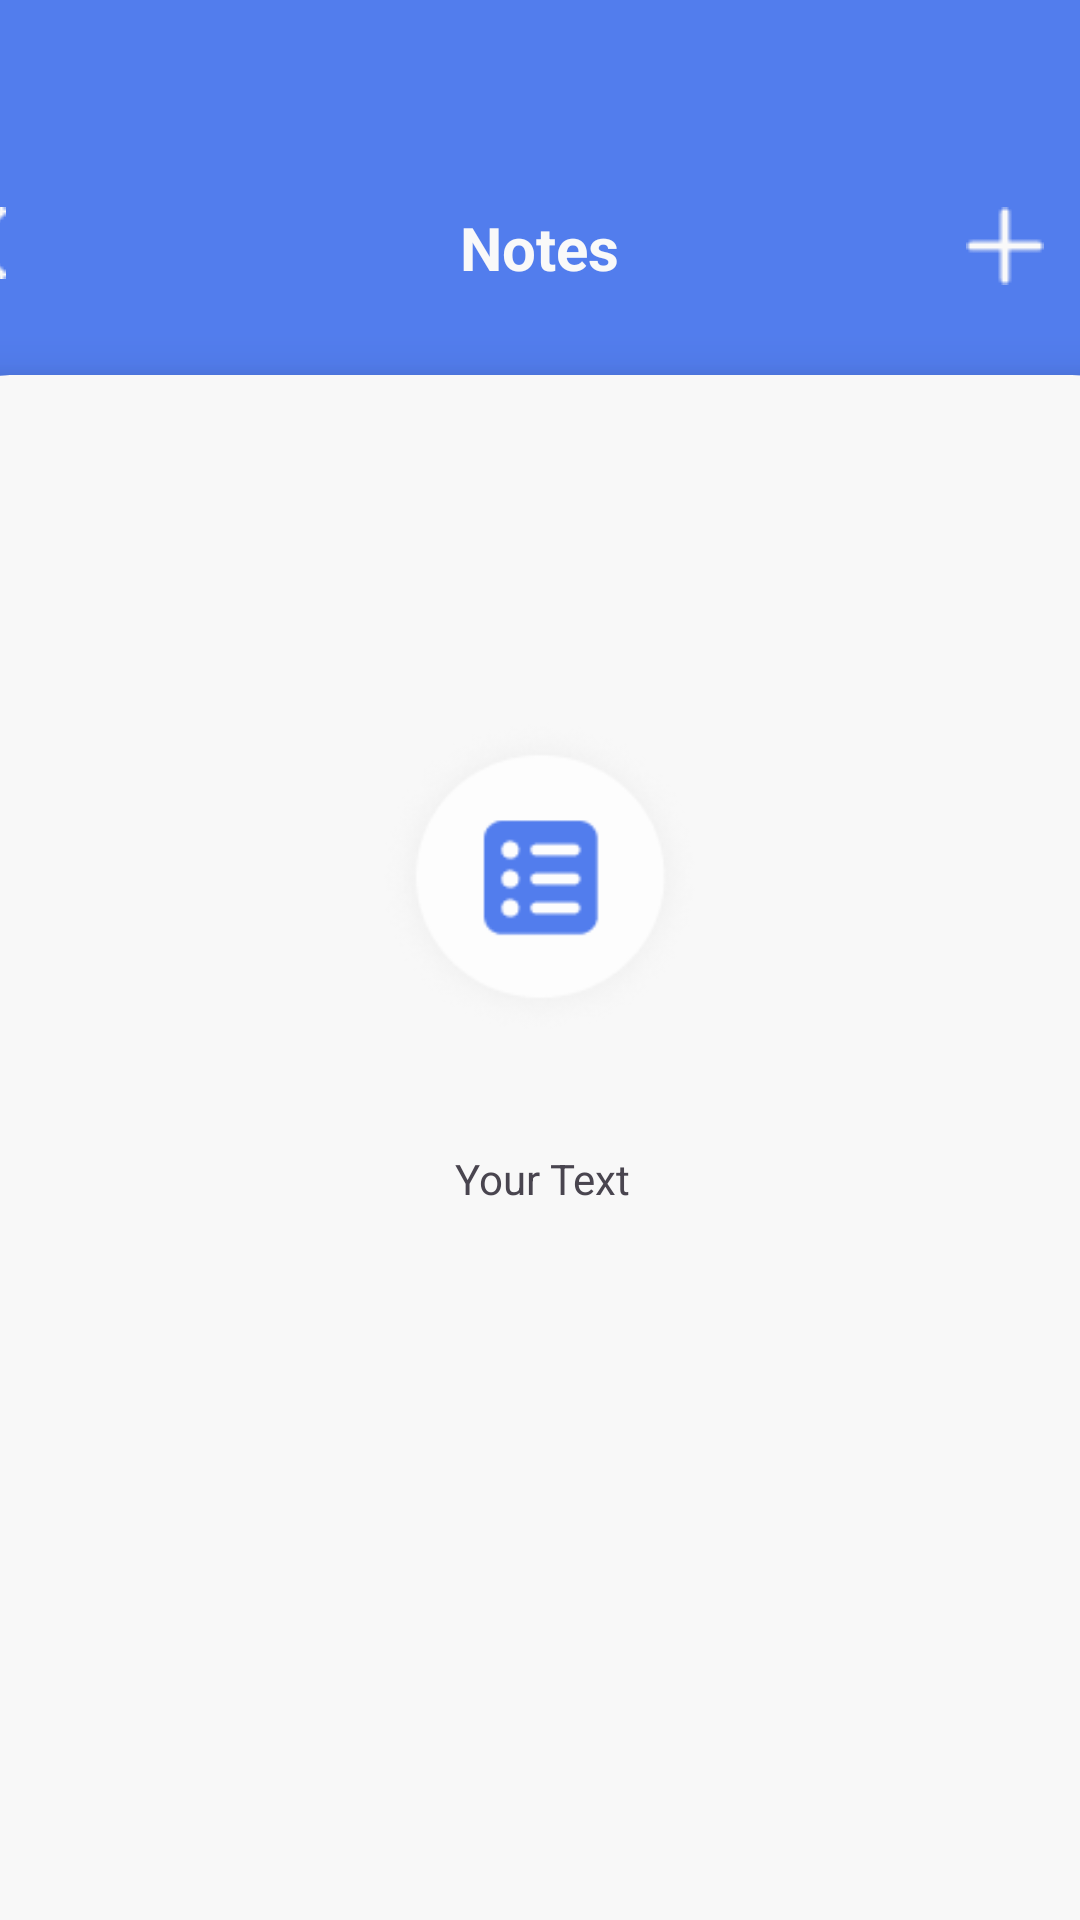

Icon bounding boxes for this 1080x1920 phone screenshot, format (x1, y1, x2, y2):
add: (966, 207, 1044, 285)
notes: (483, 820, 599, 935)
